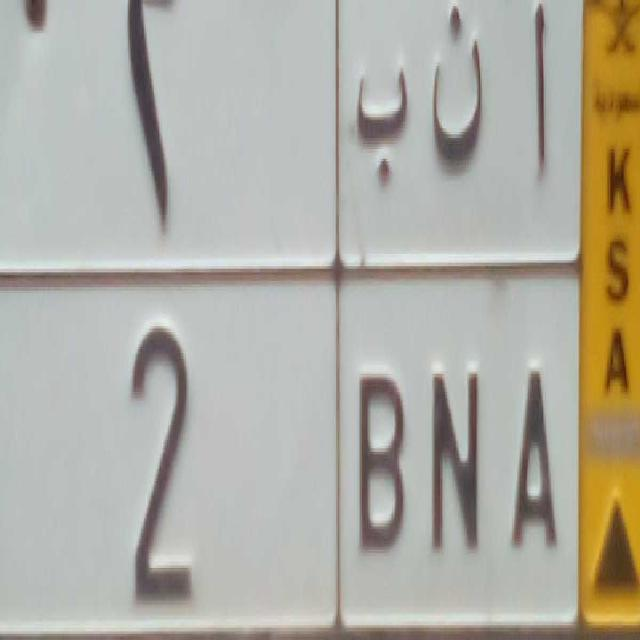license_plate: (0, 250, 580, 640)
